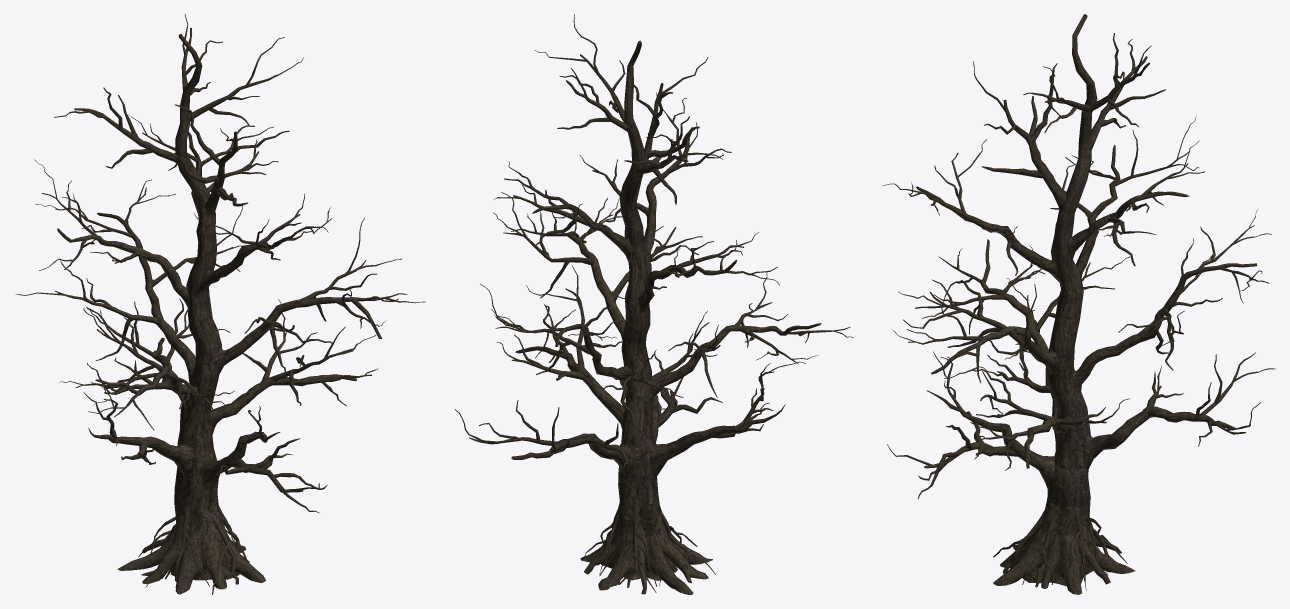
The model's file is SM_DeadTree_01a.fbx.
3 views of the same model, side by side, from view 1: azimuth 30°, elevation 25°; view 2: azimuth 150°, elevation 25°; view 3: azimuth 270°, elevation 25° (orthographic). The views are drawn at different scales.
Parts seen in each view (by area): view 1: SM_DeadTree_01a_LOD0; view 2: SM_DeadTree_01a_LOD0; view 3: SM_DeadTree_01a_LOD0.
Boxes of the visible parts, left/top/right/bottom form: SM_DeadTree_01a_LOD0: left=15, top=14, right=425, bottom=594; SM_DeadTree_01a_LOD0: left=454, top=14, right=853, bottom=594; SM_DeadTree_01a_LOD0: left=882, top=14, right=1275, bottom=594.
Size of the model in its own units: 1135 by 1109 by 1710.
